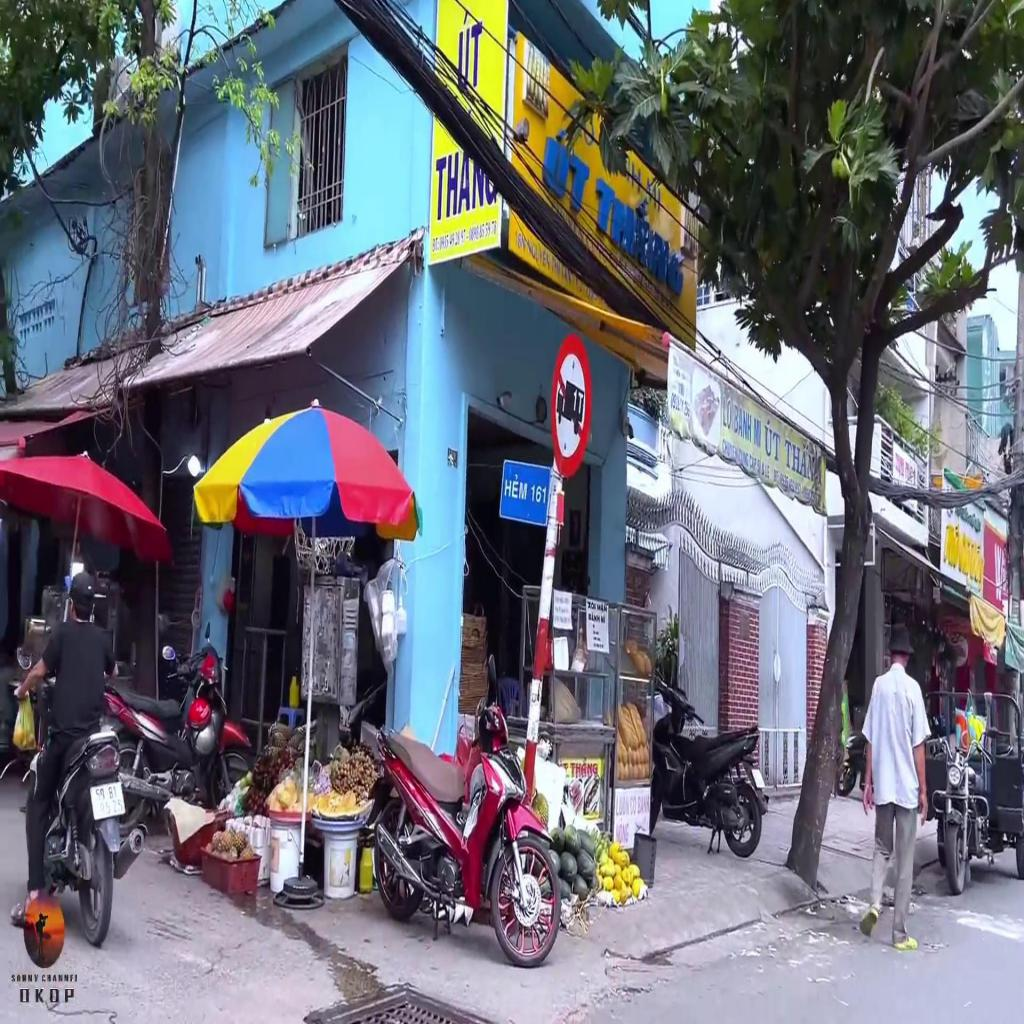cam_o_to_tai: (550, 333, 594, 478)
